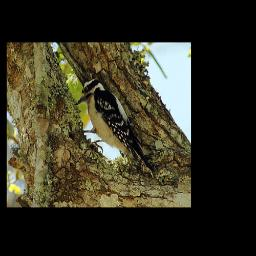Woodpecker: (74, 74, 156, 176)
